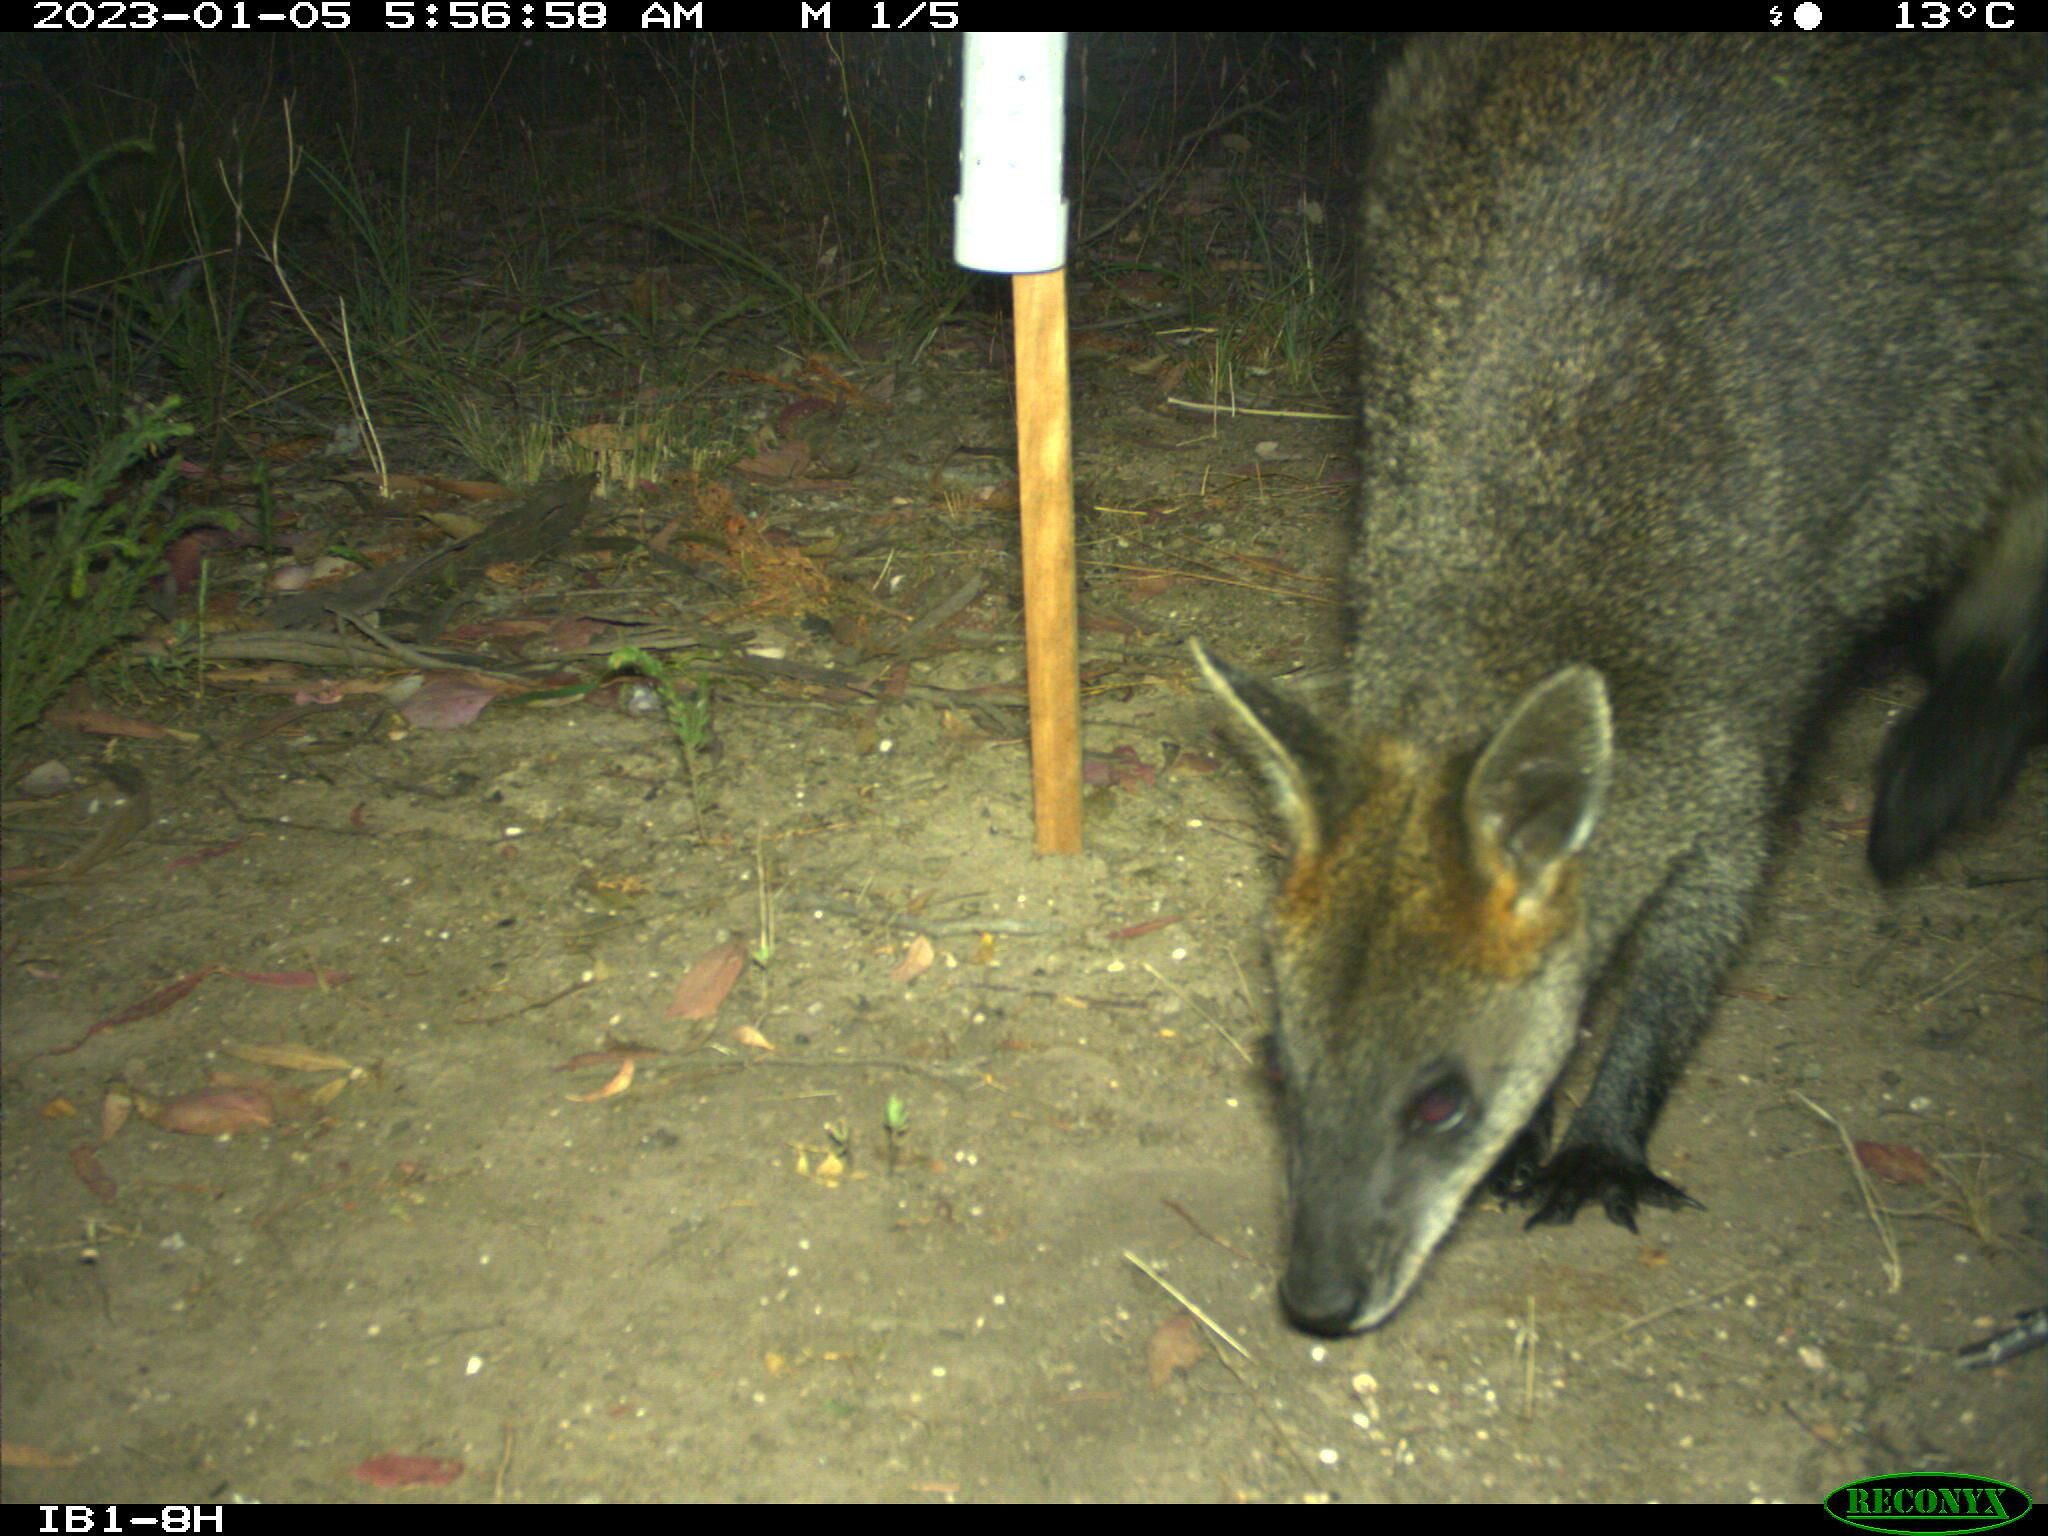Swamp wallaby: (1185, 31, 2048, 1342)
